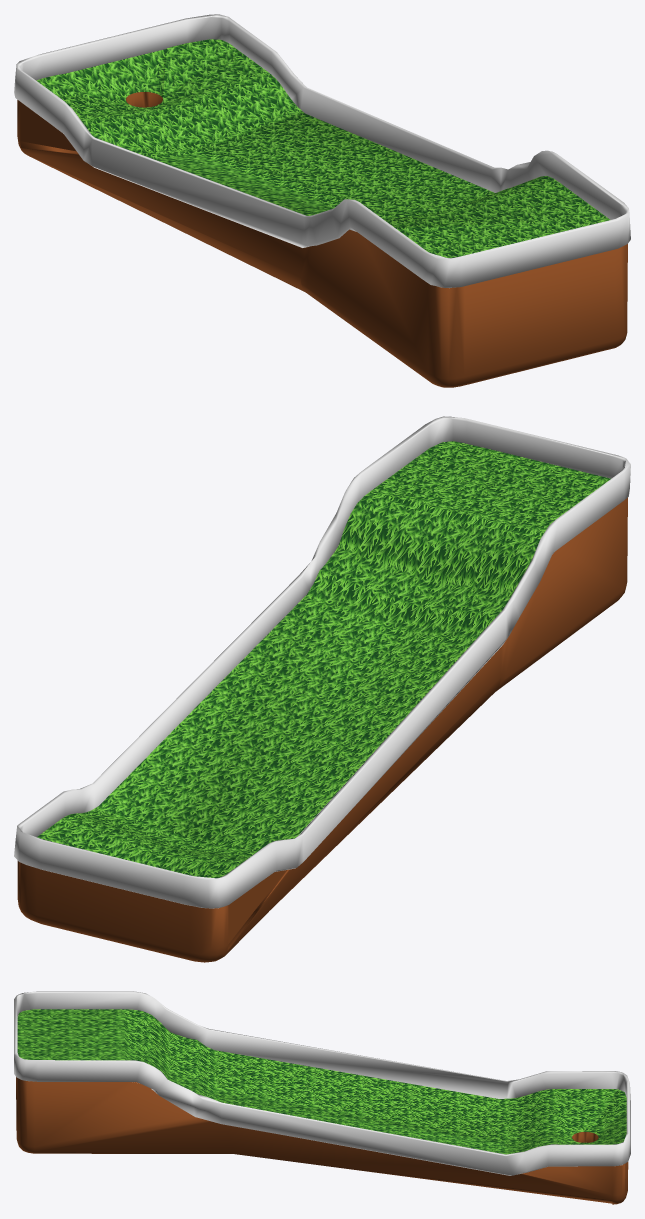
The picture shows the model from 3 angles, top to bottom: view 1: azimuth 30°, elevation 25°; view 2: azimuth 150°, elevation 25°; view 3: azimuth 270°, elevation 25°; orthographic projection. The views are drawn at different scales.
Parts seen in each view (by area): view 1: MiniCourse; view 2: MiniCourse; view 3: MiniCourse.
Boxes of the visible parts, box(x1,y1,x2,y2) form: MiniCourse: box(14, 14, 630, 387); MiniCourse: box(14, 416, 630, 962); MiniCourse: box(14, 991, 630, 1204).
Size of the model in its own units: 4.11 by 3.71 by 14.18.
3 materials, 1 textured.
